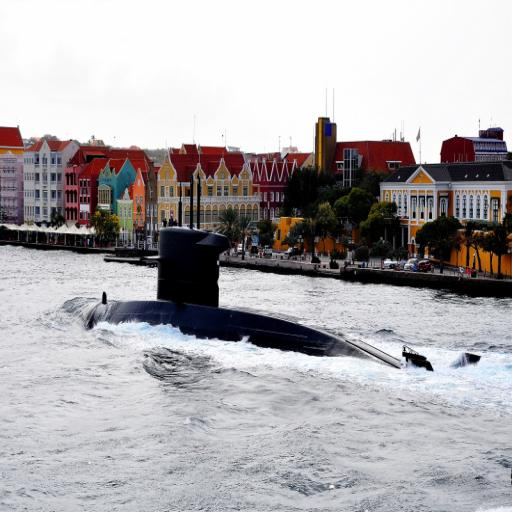submarine: (81, 135, 482, 376)
